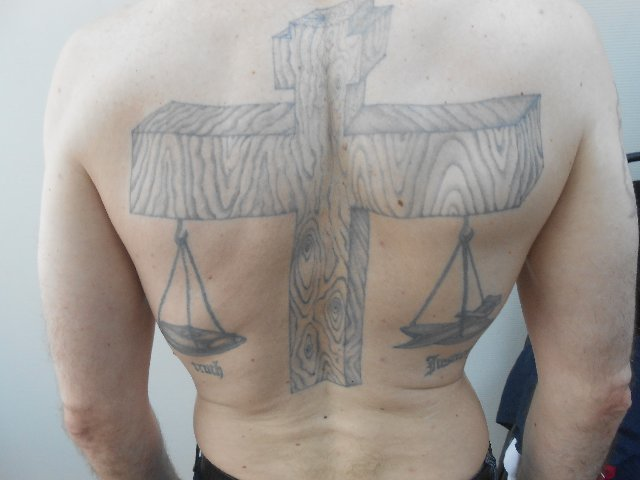tatu9_krest: (117, 3, 567, 405)
